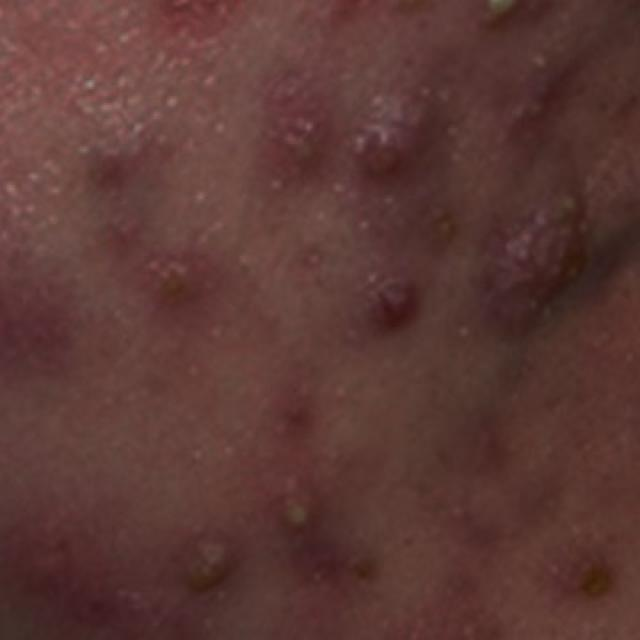acne: (256, 2, 638, 360), (142, 396, 638, 638), (55, 128, 247, 318)
